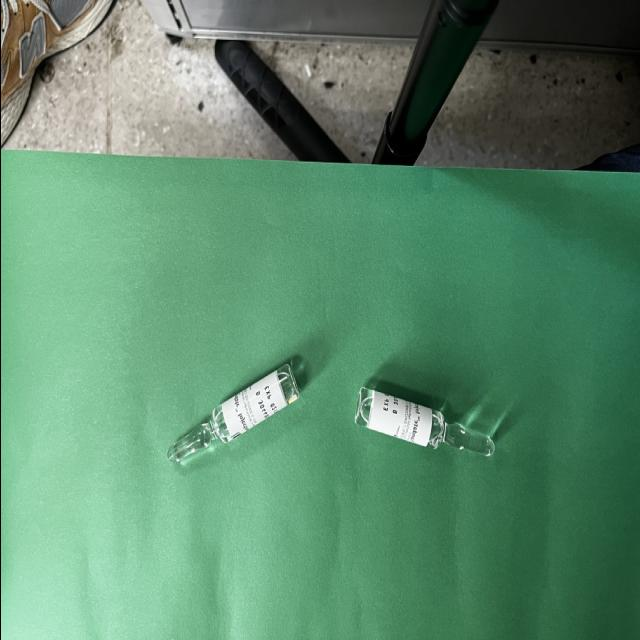Ampoules: (167, 363, 299, 463), (354, 387, 494, 458)
